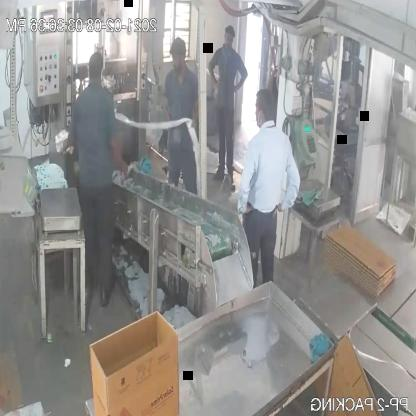no_glove: (233, 133, 258, 221), (278, 158, 302, 225), (104, 128, 132, 182), (230, 60, 246, 105), (204, 50, 220, 94)
